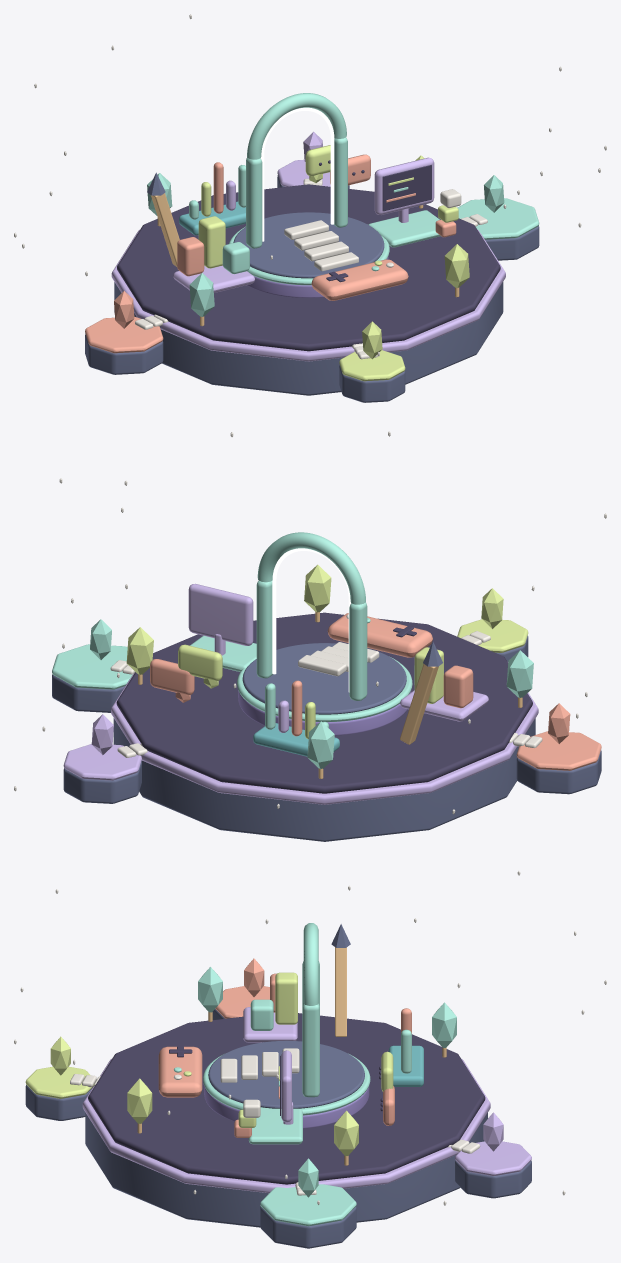
The model's file is creation-island.glb.
3 views of the same model, one above another, from view 1: azimuth 30°, elevation 25°; view 2: azimuth 150°, elevation 25°; view 3: azimuth 270°, elevation 25° (orthographic). The views are drawn at different scales.
Visible parts, largest first — view 1: ENV_main island surface, ENV_main island underside, HERO_creator plaza top, ENV_main island violet lip, HERO_play control, ENV_satellite cap_1, HERO_portal arch, ENV_satellite cap_0, ENV_satellite_0, CODE_screen, CODE_base, HERO_portal left (+26 smaller); view 2: ENV_main island surface, ENV_main island underside, HERO_creator plaza top, ENV_main island violet lip, CODE_screen casing, ENV_satellite cap_1, HERO_portal arch, ENV_satellite cap_0, HERO_play control, ENV_satellite_0, ENV_satellite cap_3, ENV_satellite_3 (+24 smaller); view 3: ENV_main island surface, ENV_main island underside, HERO_creator plaza top, ENV_main island violet lip, ENV_satellite cap_1, ENV_satellite_1, HERO_play control, ENV_satellite cap_3, ENV_satellite_3, HERO_portal right, CODE_base, ENV_satellite cap_2 (+19 smaller).
Part boxes in pixels (x1,y1,x2,y2): ENV_main island surface: (117,184,500,351); ENV_main island underside: (114,282,503,395); HERO_creator plaza top: (233,212,384,278); ENV_main island violet lip: (111,229,505,361); HERO_play control: (311,259,408,300); ENV_satellite cap_1: (457,198,539,239); HERO_portal arch: (247,93,346,159); ENV_satellite cap_0: (85,316,163,353); ENV_satellite_0: (85,334,163,374); CODE_screen: (382,165,431,211); CODE_base: (368,210,440,247); HERO_portal left: (246,157,262,248); ENV_main island surface: (116,612,532,793); ENV_main island underside: (113,718,535,841); HERO_creator plaza top: (242,643,406,714); ENV_main island violet lip: (111,662,538,804); CODE_screen casing: (188,583,253,645); ENV_satellite cap_1: (52,644,132,689); HERO_portal arch: (257,532,365,604); ENV_satellite cap_0: (516,731,601,770); HERO_play control: (327,613,432,657); ENV_satellite_0: (516,750,601,794); ENV_satellite cap_3: (63,744,141,780); ENV_satellite_3: (63,761,141,803); ENV_main island surface: (88,1013,485,1184); ENV_main island underside: (85,1112,487,1227); HERO_creator plaza top: (208,1040,364,1108); ENV_main island violet lip: (82,1059,490,1193); ENV_satellite cap_1: (260,1184,356,1226); ENV_satellite_1: (260,1206,356,1248); HERO_play control: (158,1046,202,1097); ENV_satellite cap_3: (455,1141,531,1176); ENV_satellite_3: (455,1160,531,1198); HERO_portal right: (302,1004,319,1097); CODE_base: (248,1108,302,1144); ENV_satellite cap_2: (25,1066,94,1098).
Bounding box in the file's own units: 11.26 × 4.42 × 10.9.
